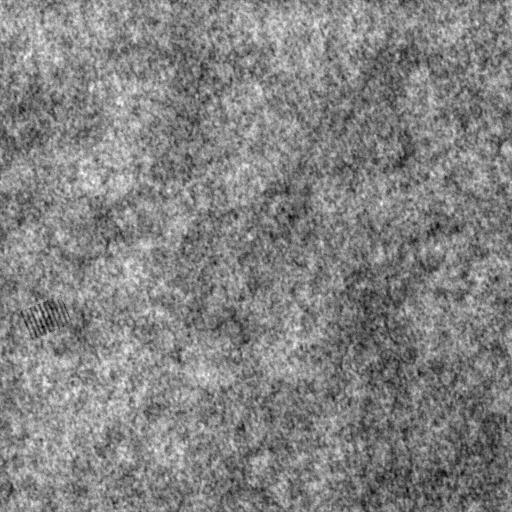DefectTypeB: (22, 297, 73, 337)
